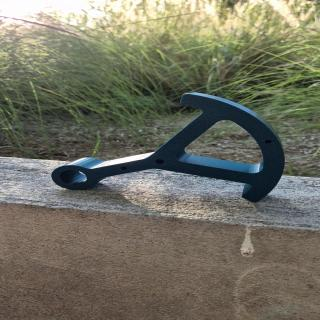haptic: (50, 91, 288, 203)
